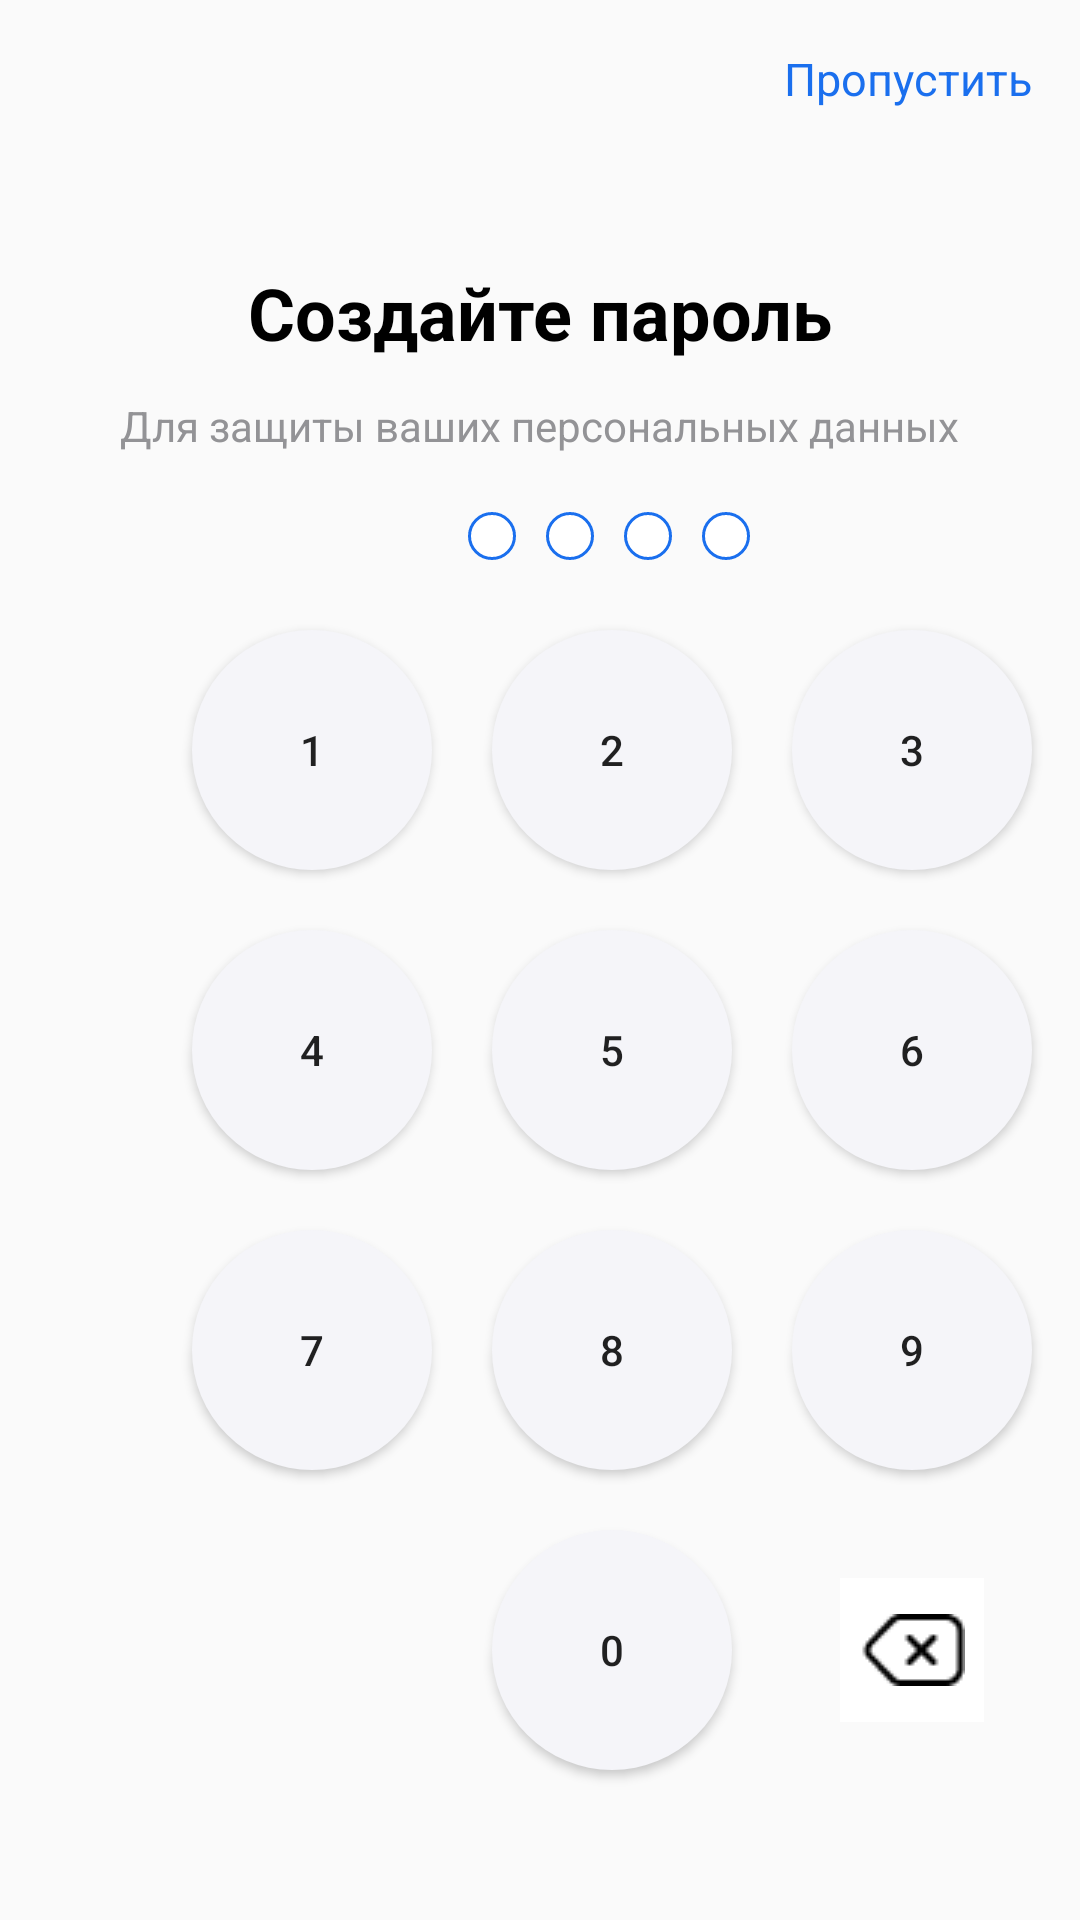

Named icons in this screenshot (1080 x 1920) and their bounding boxes, Rect(x1, y1, x2, y2):
delicon: Rect(862, 1614, 965, 1686)
